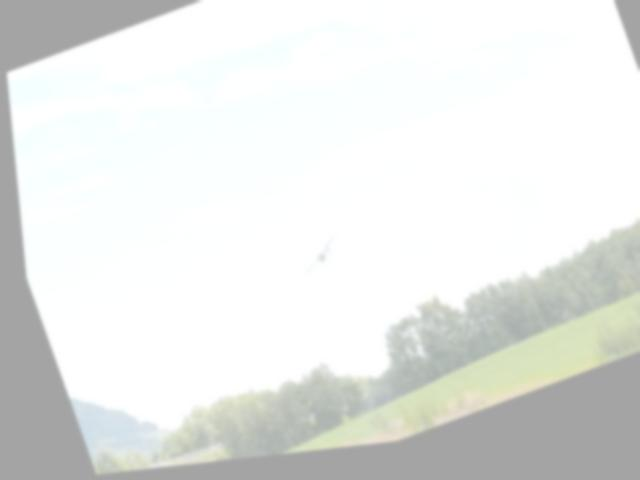uav: (283, 234, 341, 289)
